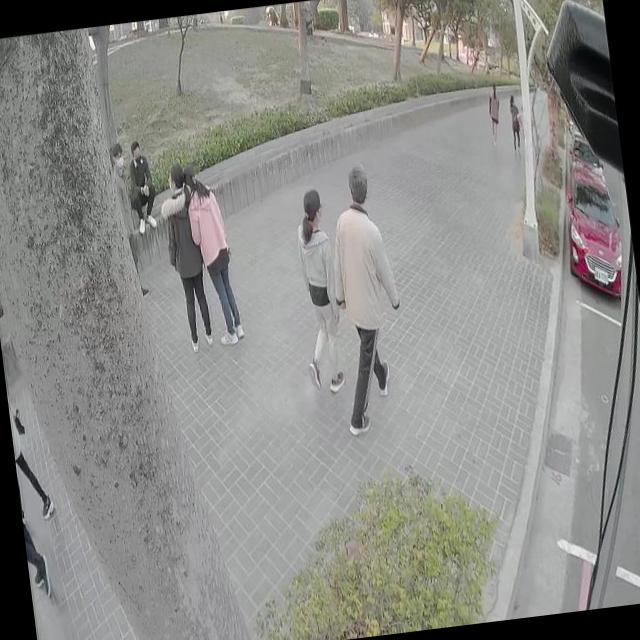person: (319, 161, 414, 435), (288, 187, 345, 393), (155, 158, 212, 346), (184, 160, 242, 343), (107, 143, 142, 281), (122, 143, 158, 227), (484, 82, 504, 144), (504, 92, 522, 152)
